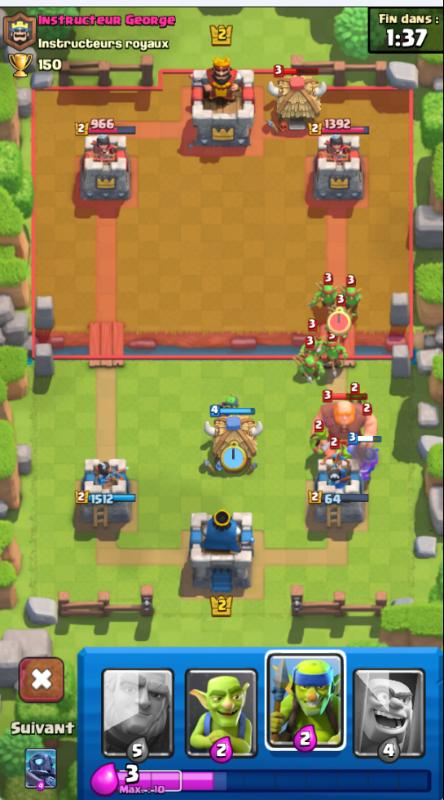geant: (311, 388, 378, 453)
gobelin: (305, 423, 330, 456), (327, 437, 351, 465), (345, 385, 371, 405)
gobelin_lances: (326, 303, 354, 351), (305, 276, 337, 312), (295, 354, 325, 390), (323, 338, 349, 377), (343, 282, 363, 327), (299, 334, 329, 360), (219, 446, 247, 470), (213, 394, 242, 413), (328, 309, 350, 333)
mousquetaire: (349, 428, 379, 490)
